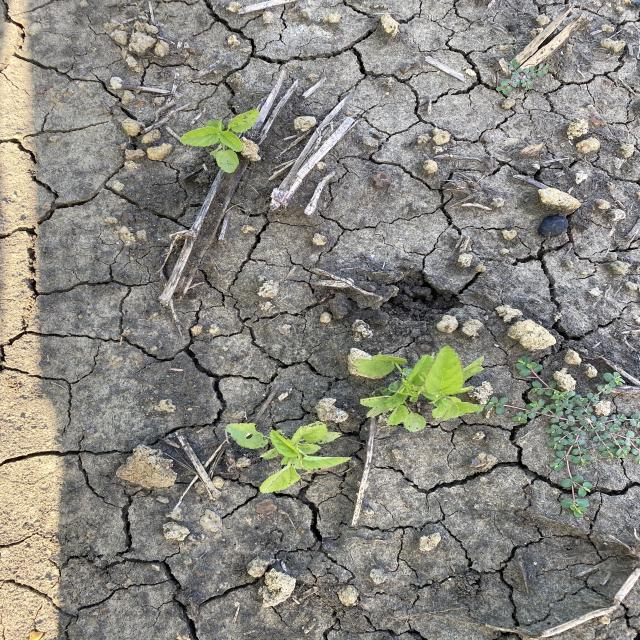PricklySida: (352, 345, 490, 434), (224, 419, 354, 494), (173, 106, 263, 175)
SpottedSpurge: (483, 356, 638, 516), (494, 58, 552, 96)
